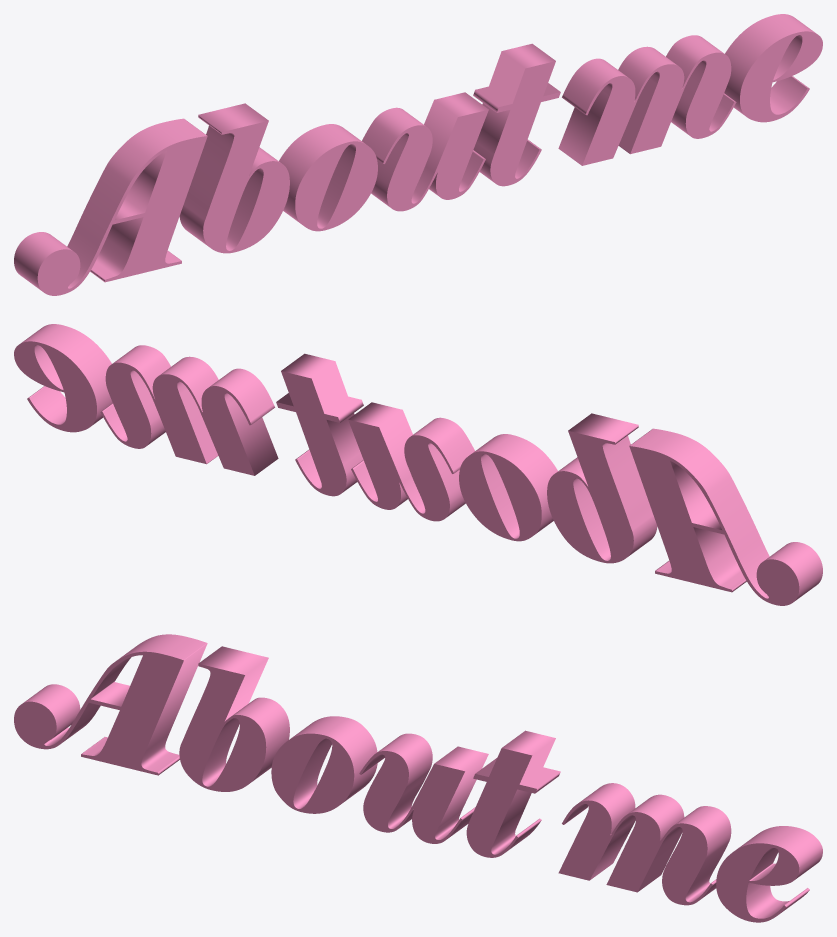
The picture shows the model from 3 angles, top to bottom: view 1: azimuth 30°, elevation 25°; view 2: azimuth 150°, elevation 25°; view 3: azimuth 330°, elevation 25°; orthographic projection.
Visible parts, largest first — view 1: Text; view 2: Text; view 3: Text.
Part boxes in pixels (x1,y1,x2,y2): Text: (14,14,822,295); Text: (14,324,822,605); Text: (14,634,822,922).
Size of the model in its own units: 3.82 by 0.5787 by 0.2.
